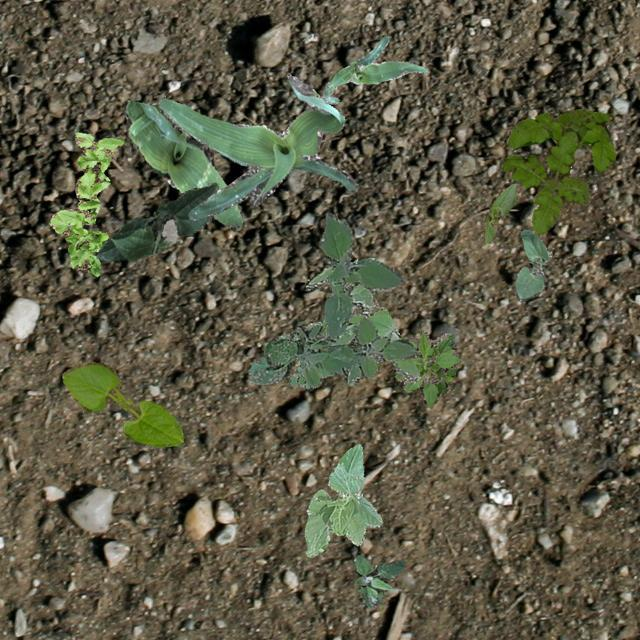crop: (156, 74, 354, 220), (124, 100, 242, 228), (61, 360, 182, 446), (96, 182, 218, 260), (304, 444, 382, 556), (322, 34, 426, 102), (514, 227, 550, 300), (482, 182, 516, 242)
weed: (248, 212, 417, 386), (286, 266, 419, 382), (502, 108, 614, 234), (49, 130, 122, 276), (246, 316, 334, 388), (394, 328, 459, 406), (352, 554, 404, 608), (376, 360, 382, 370)
